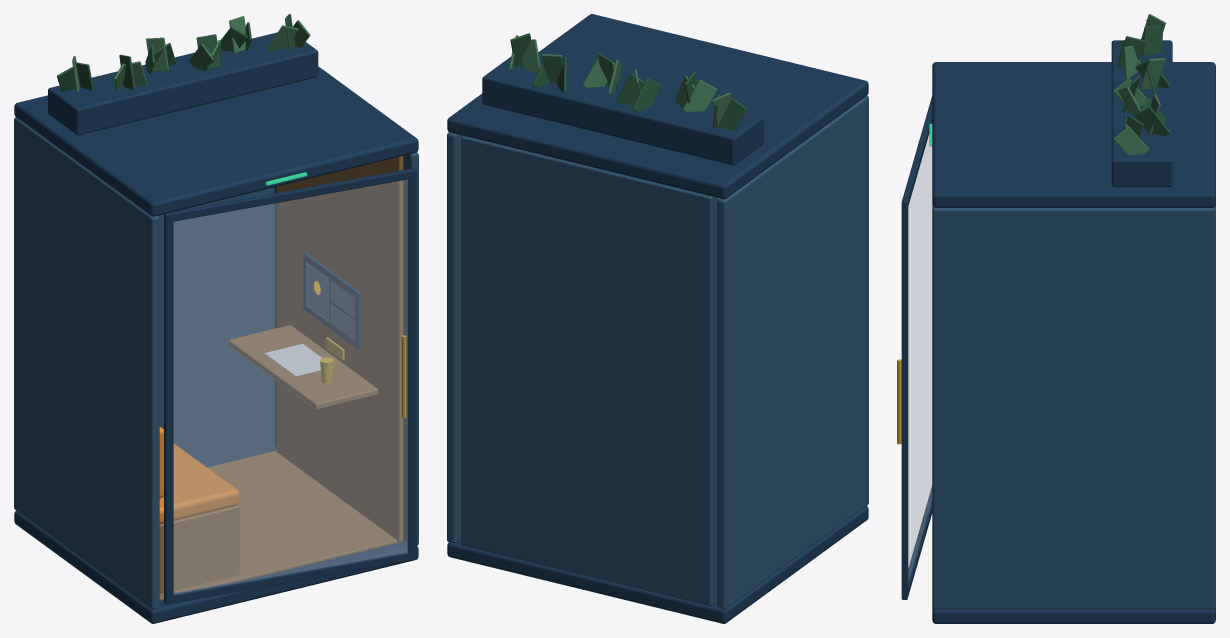
The model's file is campus-pod-coast.glb.
The picture shows the model from 3 angles, left to right: view 1: azimuth 30°, elevation 25°; view 2: azimuth 150°, elevation 25°; view 3: azimuth 270°, elevation 25°; orthographic projection. The views are drawn at different scales.
Size of the model in its own units: 1.45 by 2.49 by 1.46.
Materials: 13 (1 with a texture image).
